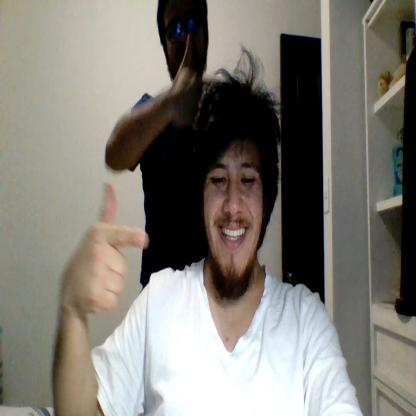G: (73, 183, 149, 319)
